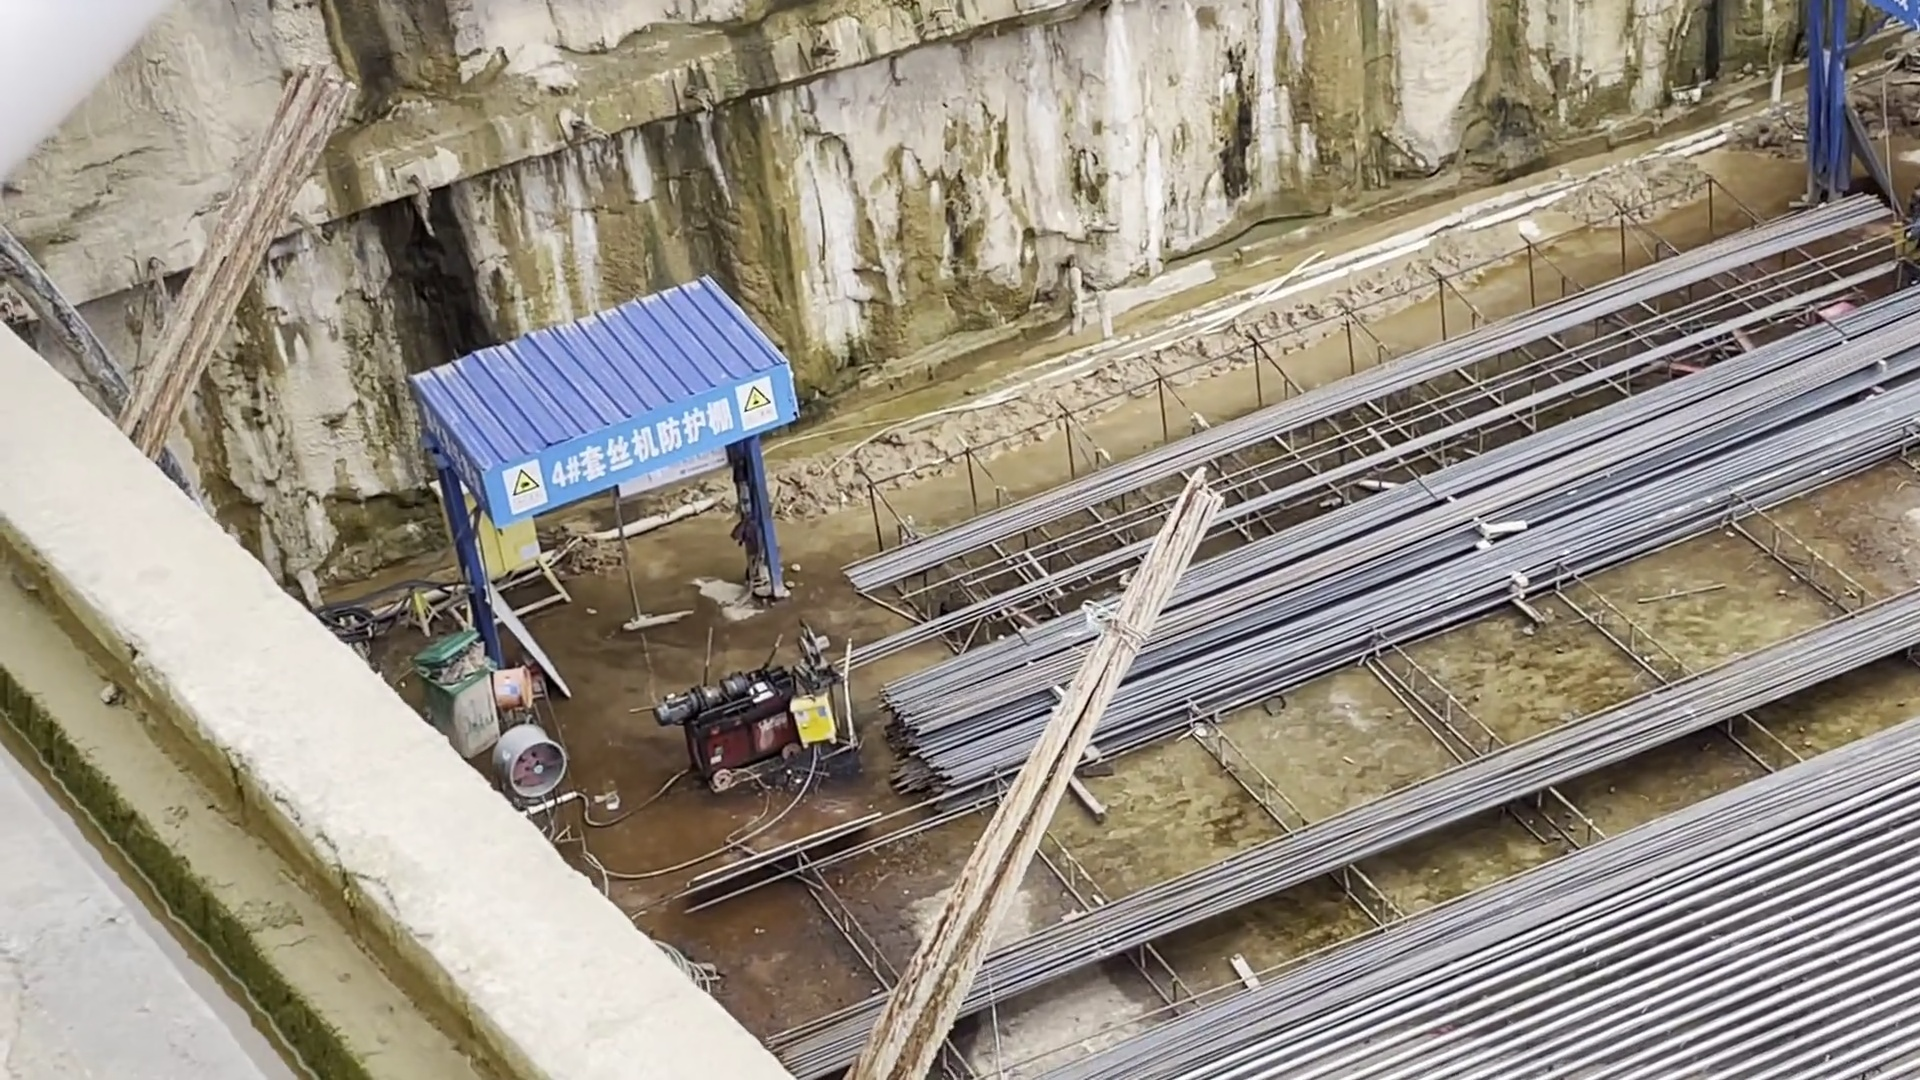rebar: (847, 181, 1913, 1004)
slogan: (498, 363, 794, 524)
